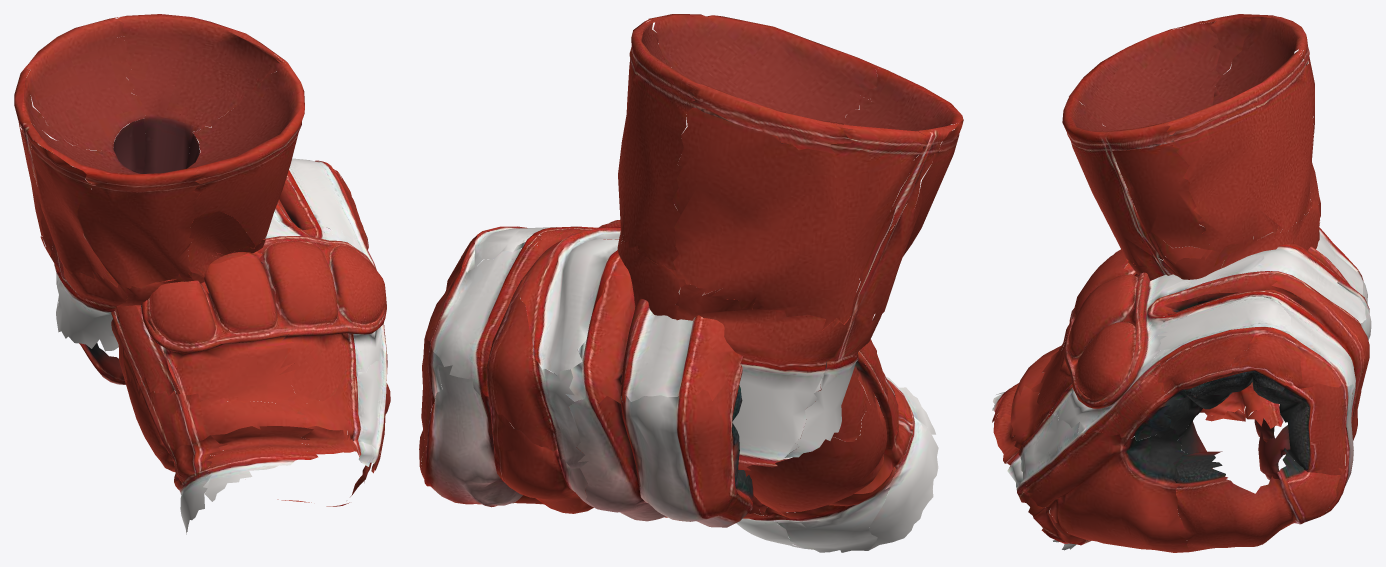
The model's file is gloves.glb.
The picture shows the model from 3 angles, left to right: view 1: azimuth 30°, elevation 25°; view 2: azimuth 150°, elevation 25°; view 3: azimuth 270°, elevation 25°; orthographic projection. The views are drawn at different scales.
Visible parts, largest first — view 1: Cuff, Glove; view 2: Glove, Cuff; view 3: Glove, Cuff.
Part boxes in pixels (x1,y1,x2,y2): Cuff: (14, 14, 304, 351); Glove: (77, 158, 390, 534); Glove: (419, 220, 938, 552); Cuff: (617, 14, 963, 470); Glove: (992, 222, 1371, 552); Cuff: (1062, 14, 1320, 428).
Size of the model in its own units: 0.1895 by 0.2223 by 0.1642.
Materials: 1 (1 with a texture image).
